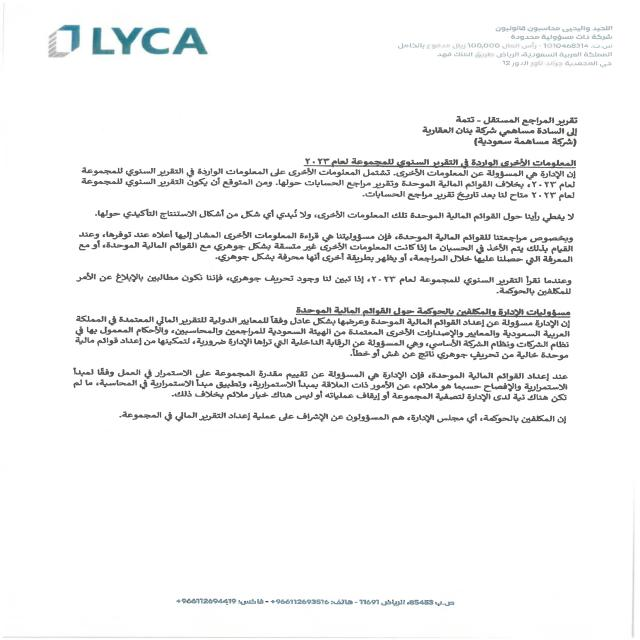auditor_report: (452, 112, 584, 127)
